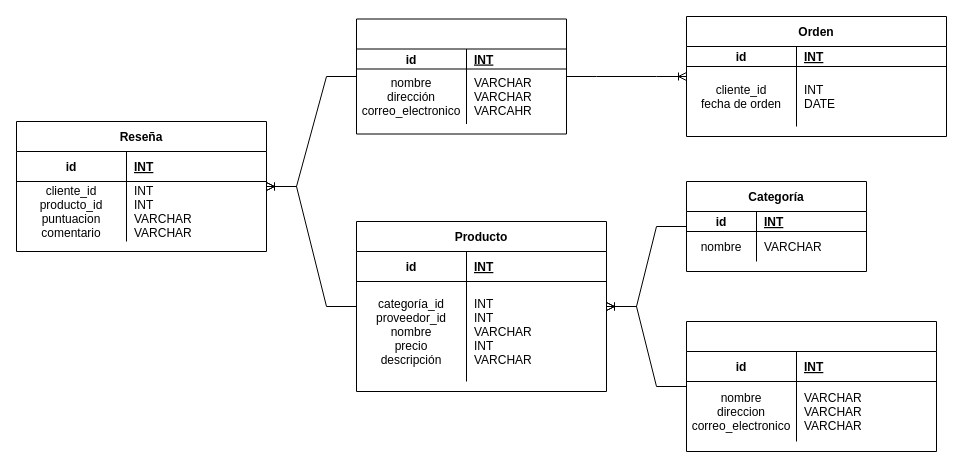
The diagram is 963 pixels wide and 468 high, and some of its shapes have lost their labels. Here are the shapes that lost their labels. From the top down, the box of each, then its label:
(356, 18, 566, 134): Cliente
(686, 320, 936, 452): Proveedor
